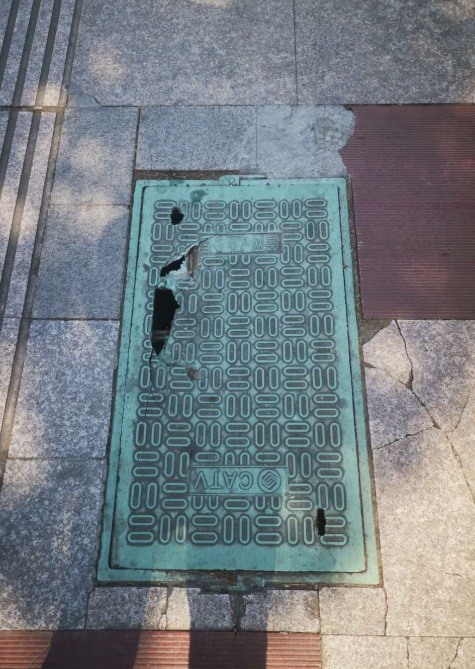broke: (95, 176, 378, 585)
